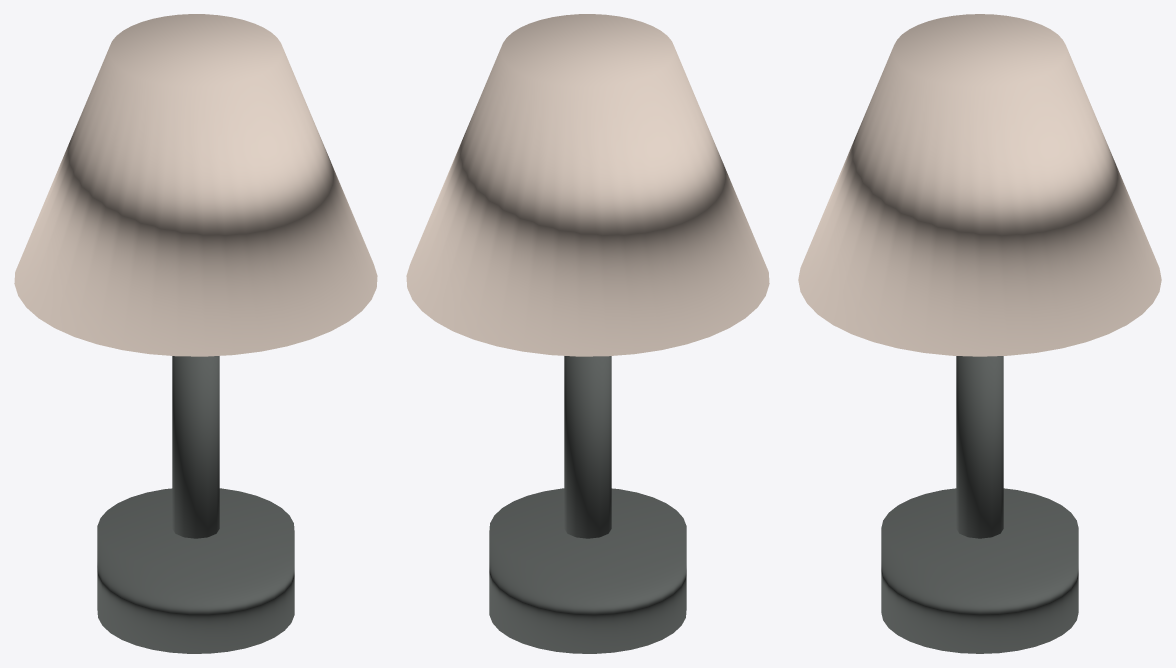
File: candeeiro-de-mesa-alba.glb
3 views of the same model, side by side, from view 1: azimuth 30°, elevation 25°; view 2: azimuth 150°, elevation 25°; view 3: azimuth 270°, elevation 25° (orthographic).
Visible parts, largest first — view 1: Abat-jour, Base, Haste; view 2: Abat-jour, Base, Haste; view 3: Abat-jour, Base, Haste.
Boxes of the visible parts, x1,y1,x2,y2 form: Abat-jour: (14,14,377,356); Base: (97,488,294,653); Haste: (172,356,219,538); Abat-jour: (406,14,769,356); Base: (489,488,686,653); Haste: (564,356,611,538); Abat-jour: (798,14,1161,356); Base: (881,488,1078,653); Haste: (956,356,1003,538).
Size of the model in its own units: 0.276 by 0.4704 by 0.276.
